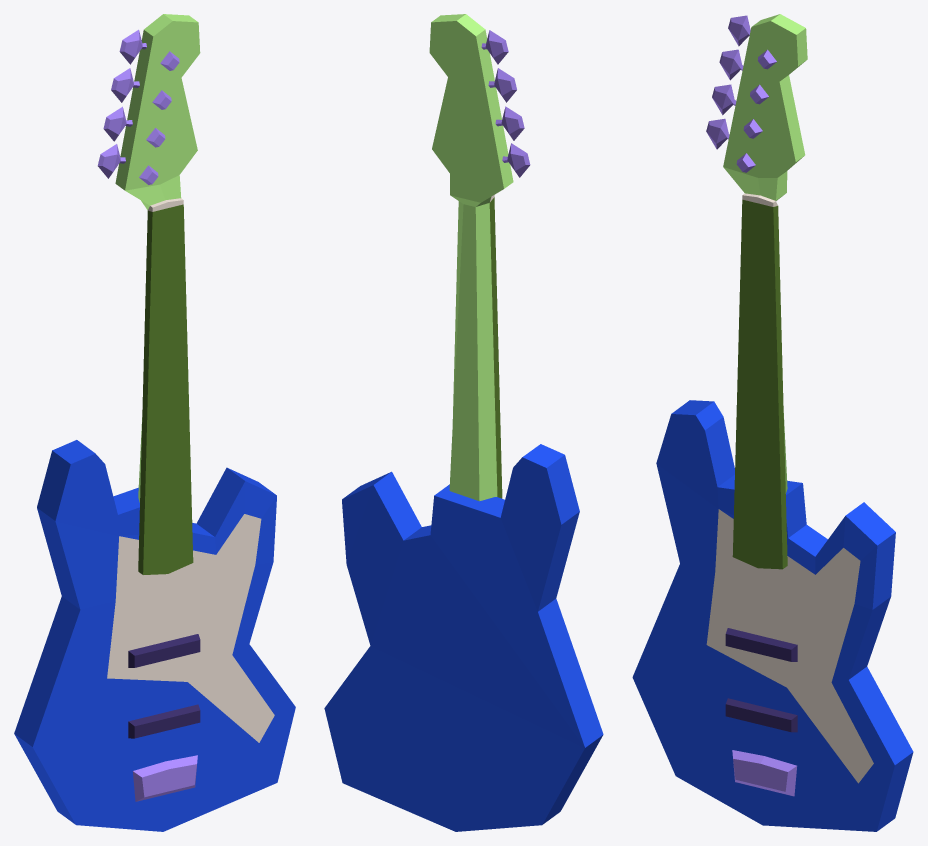
Rendered from 038_Bass.fbx.
The picture shows the model from 3 angles, left to right: view 1: azimuth 30°, elevation 25°; view 2: azimuth 150°, elevation 25°; view 3: azimuth 330°, elevation 25°; orthographic projection.
Visible parts, largest first — view 1: BASS; view 2: BASS; view 3: BASS.
Boxes of the visible parts, bbox=[...] form: BASS: bbox=[14, 14, 295, 831]; BASS: bbox=[324, 14, 603, 831]; BASS: bbox=[632, 14, 913, 831].
Size of the model in its own units: 50.04 by 147 by 7.94.
